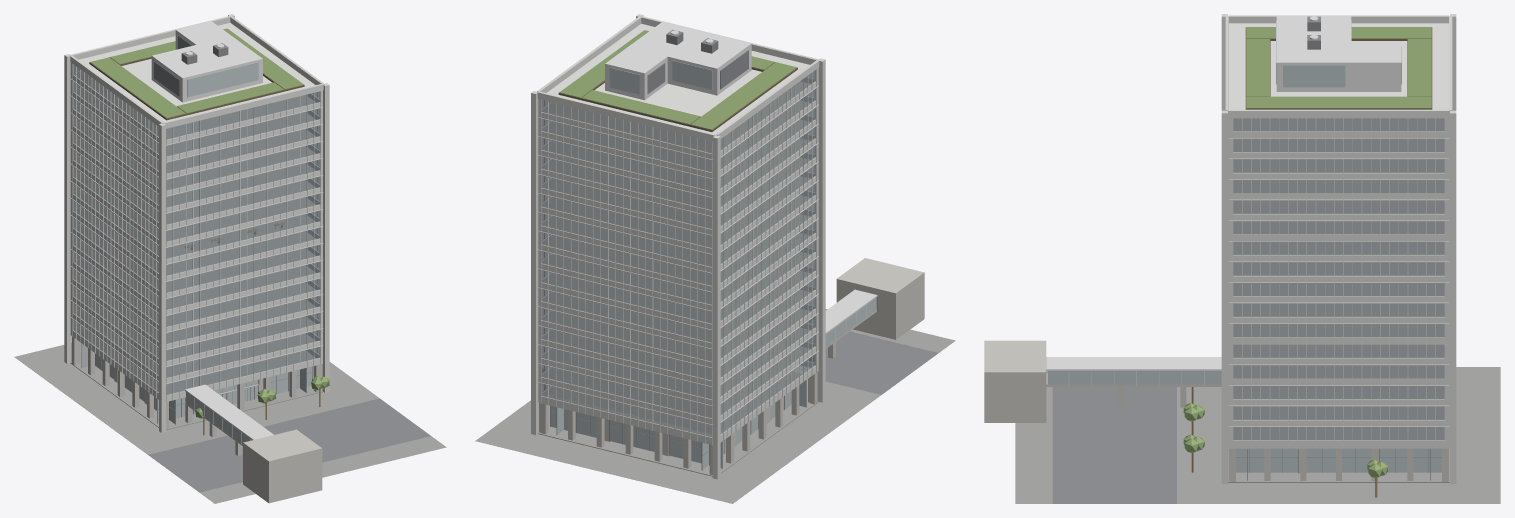
Rendered from clay-plus15-glass-office-tower-clay-v002.glb.
3 views of the same model, side by side, from view 1: azimuth 30°, elevation 25°; view 2: azimuth 150°, elevation 25°; view 3: azimuth 270°, elevation 25° (orthographic). The views are drawn at different scales.
Parts seen in each view (by area): view 1: CLAY_GLASS, CLAY_PALE, CLAY_FLOOR, CLAY_METAL, CLAY_FOUNDATION, CLAY_HARDWARE, CLAY_CONCRETE, CLAY_PLANTING, CLAY_LIGHTGLASS, CLAY_MEMBRANE, CLAY_SOIL; view 2: CLAY_GLASS, CLAY_PALE, CLAY_FLOOR, CLAY_METAL, CLAY_FOUNDATION, CLAY_CONCRETE, CLAY_HARDWARE, CLAY_LIGHTGLASS, CLAY_PLANTING, CLAY_MEMBRANE, CLAY_SOIL; view 3: CLAY_GLASS, CLAY_FLOOR, CLAY_PALE, CLAY_METAL, CLAY_FOUNDATION, CLAY_HARDWARE, CLAY_LIGHTGLASS, CLAY_CONCRETE, CLAY_PLANTING, CLAY_MEMBRANE, CLAY_SOIL.
Boxes of the visible parts, x1=… form: CLAY_GLASS: x1=73, y1=64, x2=320, y2=394; CLAY_PALE: x1=64, y1=14, x2=329, y2=432; CLAY_FLOOR: x1=78, y1=75, x2=315, y2=394; CLAY_METAL: x1=70, y1=21, x2=323, y2=444; CLAY_FOUNDATION: x1=14, y1=342, x2=446, y2=503; CLAY_HARDWARE: x1=81, y1=35, x2=430, y2=492; CLAY_CONCRETE: x1=71, y1=336, x2=322, y2=503; CLAY_PLANTING: x1=90, y1=28, x2=329, y2=418; CLAY_LIGHTGLASS: x1=82, y1=62, x2=311, y2=444; CLAY_MEMBRANE: x1=78, y1=22, x2=315, y2=122; CLAY_SOIL: x1=89, y1=57, x2=304, y2=120; CLAY_GLASS: x1=541, y1=70, x2=877, y2=437; CLAY_PALE: x1=531, y1=14, x2=825, y2=479; CLAY_FLOOR: x1=546, y1=81, x2=810, y2=436; CLAY_METAL: x1=538, y1=22, x2=877, y2=445; CLAY_FOUNDATION: x1=475, y1=309, x2=955, y2=503; CLAY_CONCRETE: x1=539, y1=258, x2=924, y2=474; CLAY_HARDWARE: x1=550, y1=29, x2=938, y2=470; CLAY_LIGHTGLASS: x1=550, y1=60, x2=876, y2=469; CLAY_PLANTING: x1=542, y1=30, x2=813, y2=372; CLAY_MEMBRANE: x1=546, y1=23, x2=809, y2=134; CLAY_SOIL: x1=558, y1=62, x2=797, y2=131; CLAY_GLASS: x1=1046, y1=118, x2=1444, y2=440; CLAY_FLOOR: x1=1228, y1=23, x2=1444, y2=439; CLAY_PALE: x1=1221, y1=14, x2=1456, y2=484; CLAY_METAL: x1=1046, y1=15, x2=1448, y2=448; CLAY_FOUNDATION: x1=1015, y1=367, x2=1500, y2=503; CLAY_HARDWARE: x1=1052, y1=16, x2=1441, y2=503; CLAY_LIGHTGLASS: x1=1047, y1=20, x2=1441, y2=472; CLAY_CONCRETE: x1=984, y1=340, x2=1448, y2=481; CLAY_PLANTING: x1=1183, y1=27, x2=1431, y2=477; CLAY_MEMBRANE: x1=1229, y1=23, x2=1448, y2=109; CLAY_SOIL: x1=1245, y1=27, x2=1432, y2=109.
Bounding box in the file's own units: 52 × 72.1 × 83.
